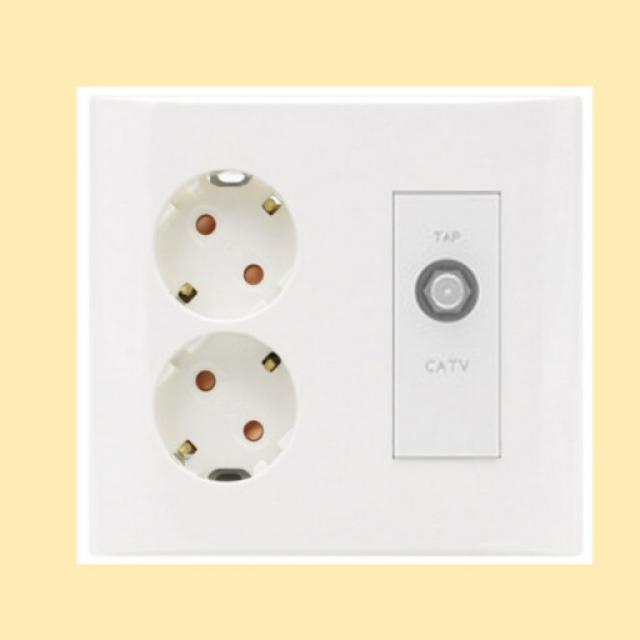typeb: (56, 76, 618, 575)
